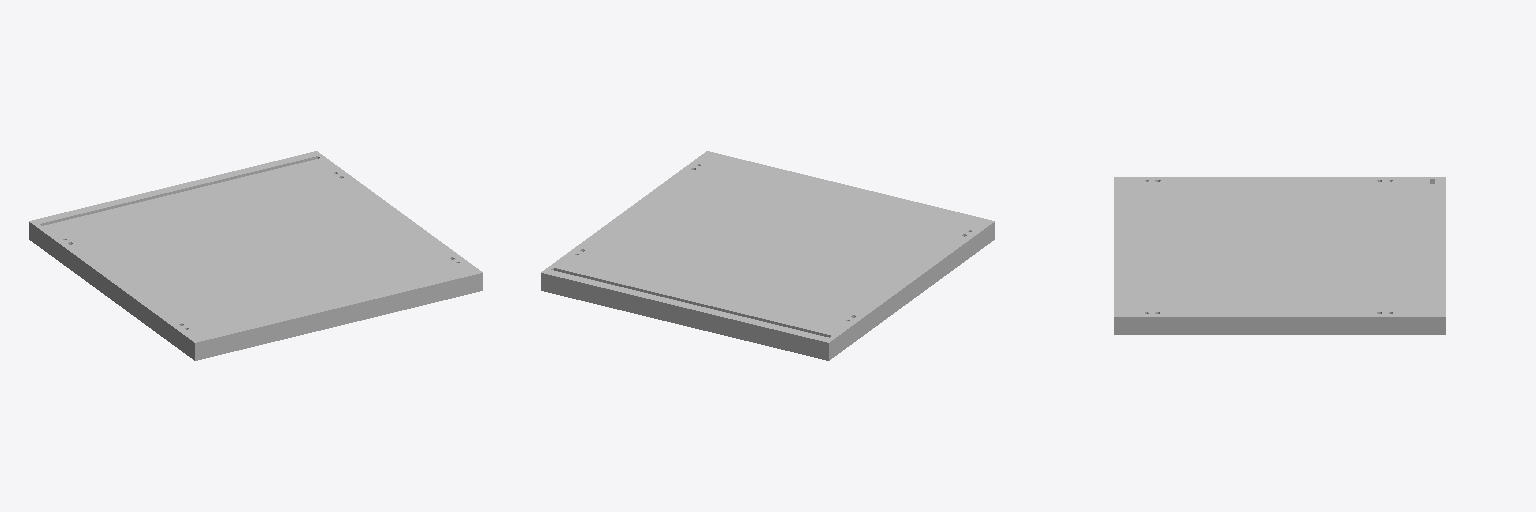
File: top.obj
The picture shows the model from 3 angles: view 1: azimuth 30°, elevation 25°; view 2: azimuth 150°, elevation 25°; view 3: azimuth 270°, elevation 25°; orthographic projection.
Visible parts, largest first — view 1: 1; view 2: 1; view 3: 1.
Boxes of the visible parts, <box> form: 1: <box>29,151,482,360</box>; 1: <box>541,151,994,360</box>; 1: <box>1114,177,1445,334</box>.
Bounding box in the file's own units: 300 × 18 × 300.